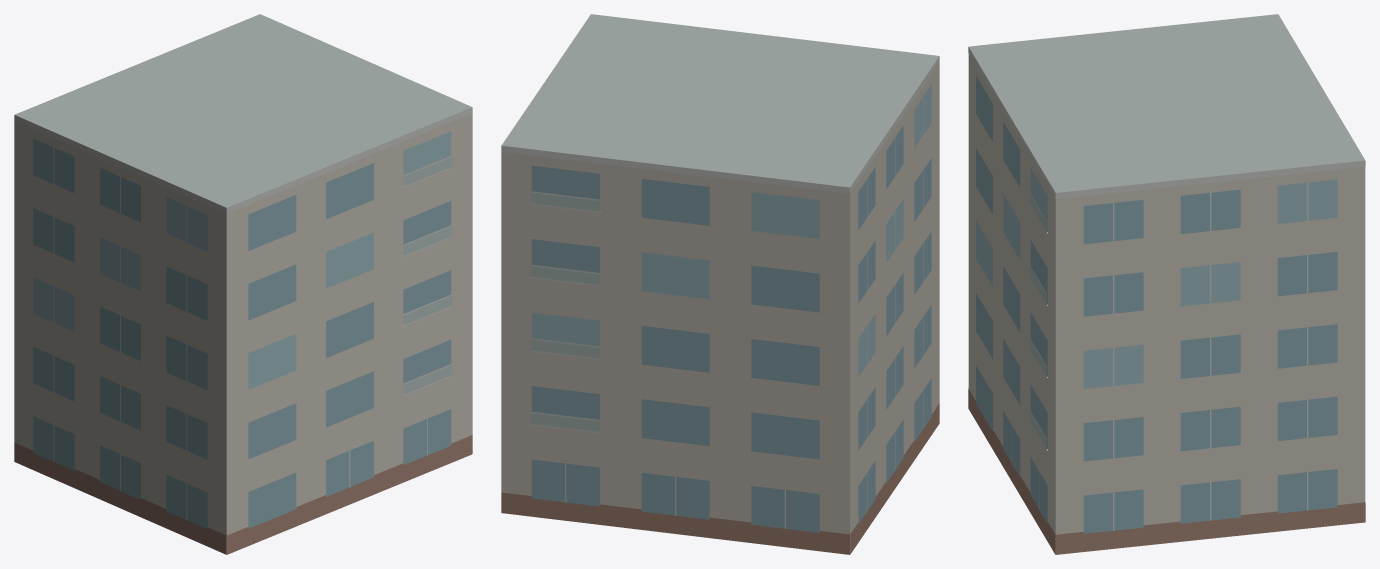
The model's file is survey-upis-32983442.glb.
3 renders of one model, left to right at view 1: azimuth 30°, elevation 25°; view 2: azimuth 150°, elevation 25°; view 3: azimuth 270°, elevation 25°, orthographic. The views are drawn at different scales.
Parts seen in each view (by area): view 1: survey-upis-32983442.tmp; view 2: survey-upis-32983442.tmp; view 3: survey-upis-32983442.tmp.
Part boxes in pixels (bbox=[...]): survey-upis-32983442.tmp: bbox=[14, 14, 472, 554]; survey-upis-32983442.tmp: bbox=[501, 14, 939, 554]; survey-upis-32983442.tmp: bbox=[968, 14, 1365, 554].
Bounding box in the file's own units: 15.12 × 14.25 × 14.18.
